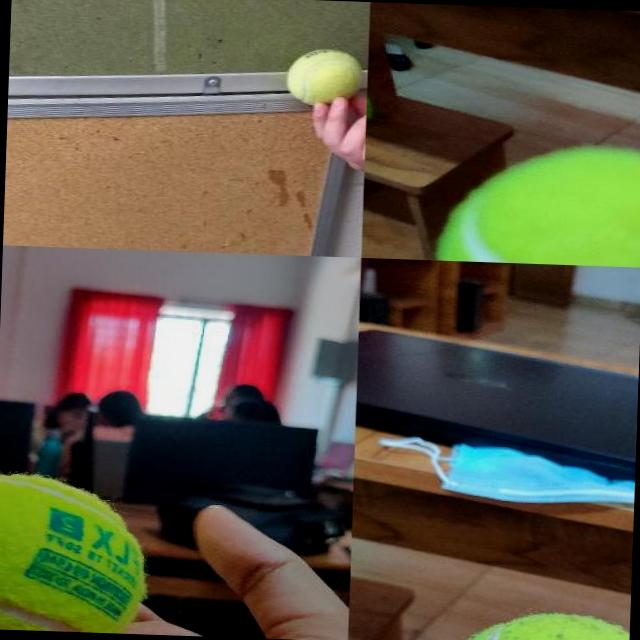Tennis Ball: (441, 143, 640, 266), (0, 473, 149, 633), (286, 46, 364, 106)
